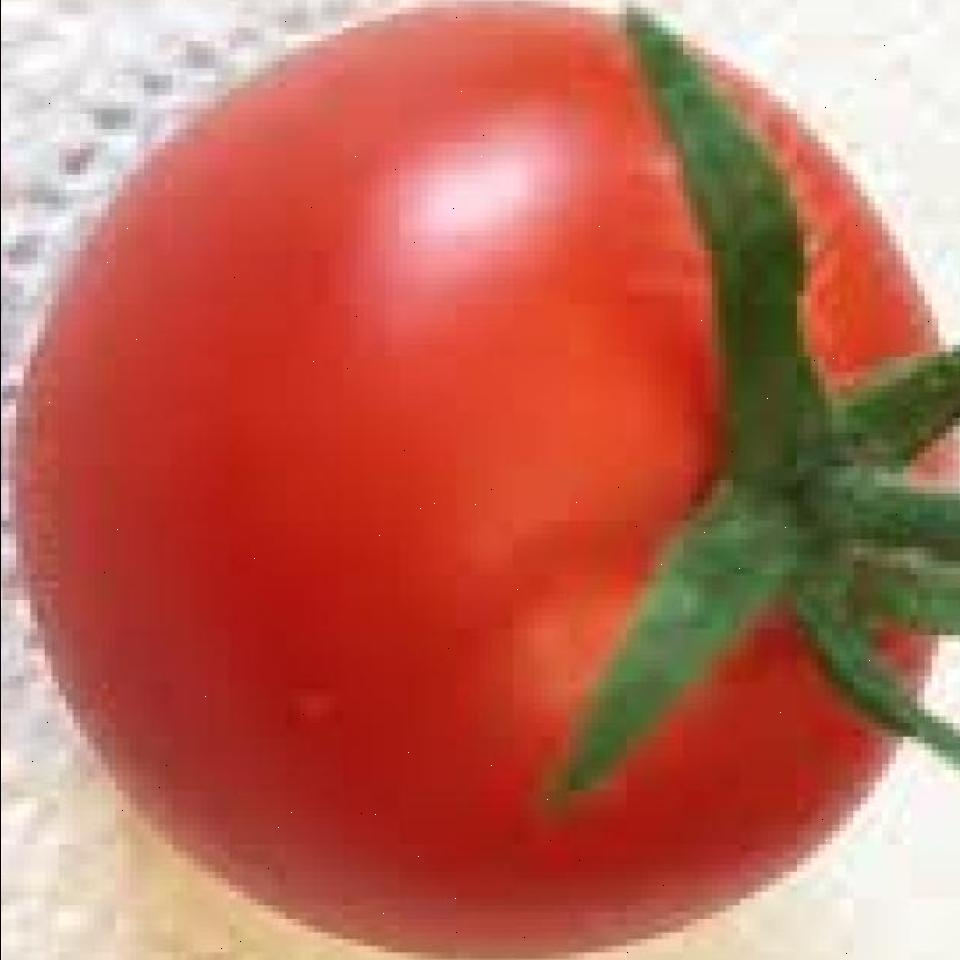Healthy: (18, 41, 945, 952)
